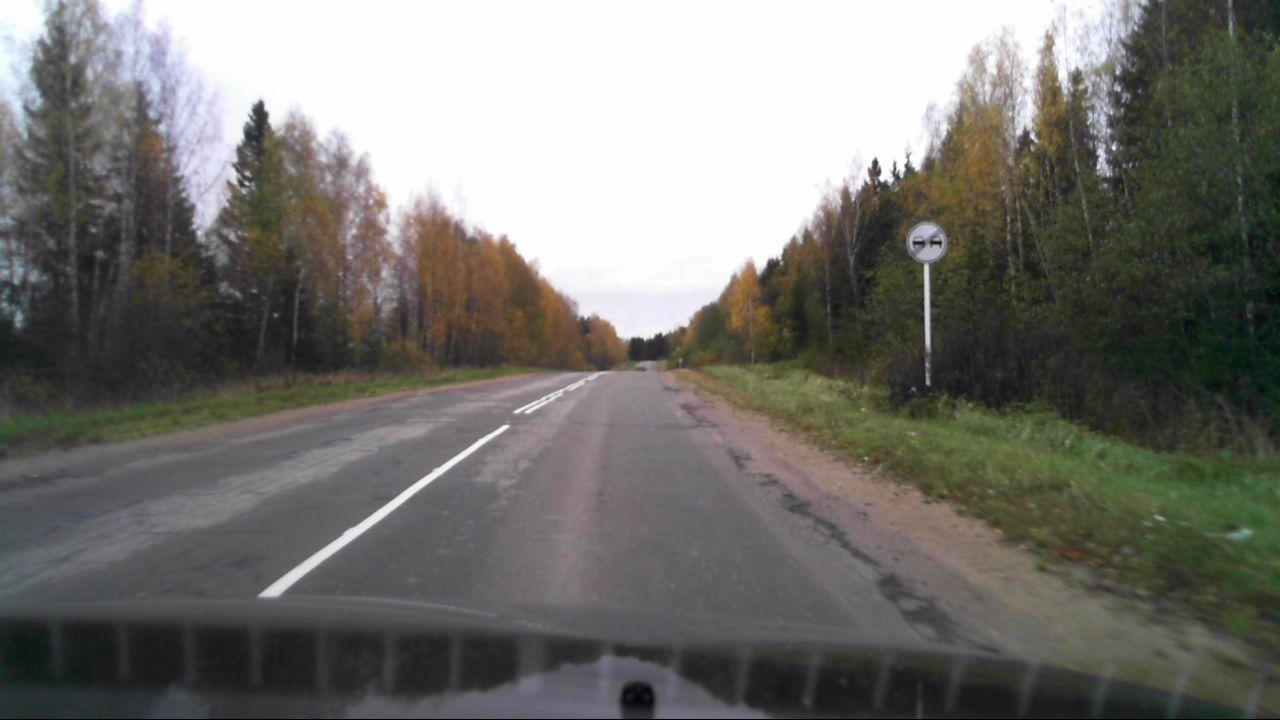3_21: (904, 222, 948, 266)
